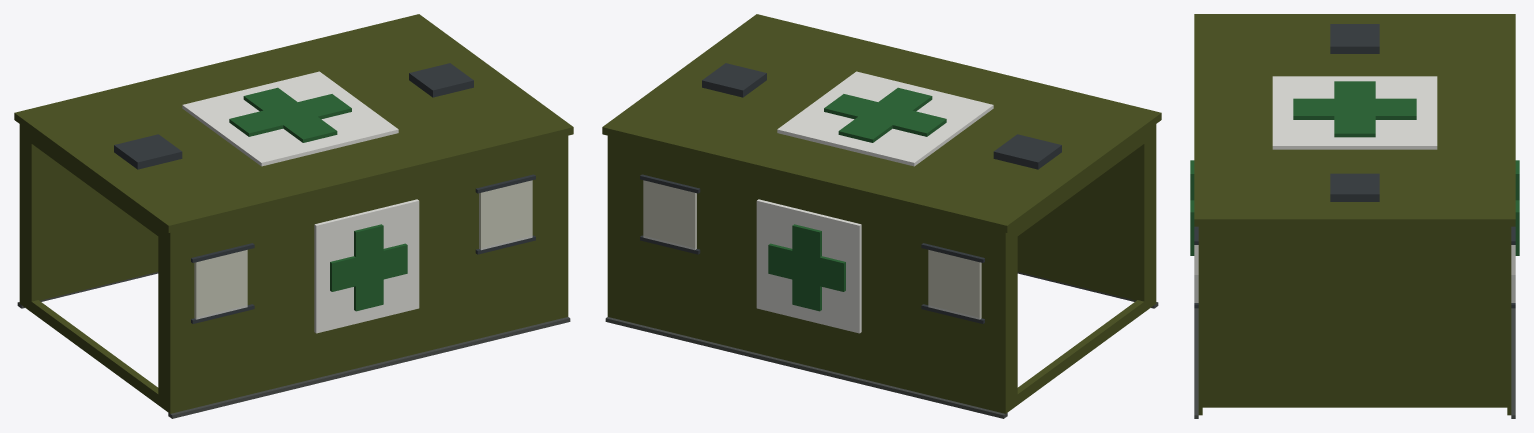
Rendered from military_ambulance_box.glb.
3 views of the same model, side by side, from view 1: azimuth 30°, elevation 25°; view 2: azimuth 150°, elevation 25°; view 3: azimuth 270°, elevation 25° (orthographic). The views are drawn at different scales.
Visible parts, largest first — view 1: body:compound; view 2: body:compound; view 3: body:compound.
Boxes of the visible parts, x1,y1,x2,y2 form: body:compound: (14, 14, 573, 418); body:compound: (602, 14, 1161, 418); body:compound: (1190, 14, 1519, 418).
Bounding box in the file's own units: 3.69 × 1.75 × 2.5.
